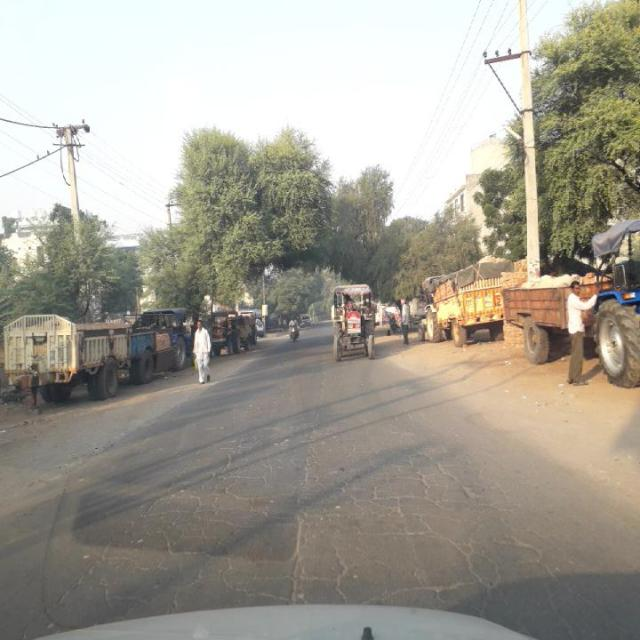crack: (46, 417, 512, 617)
